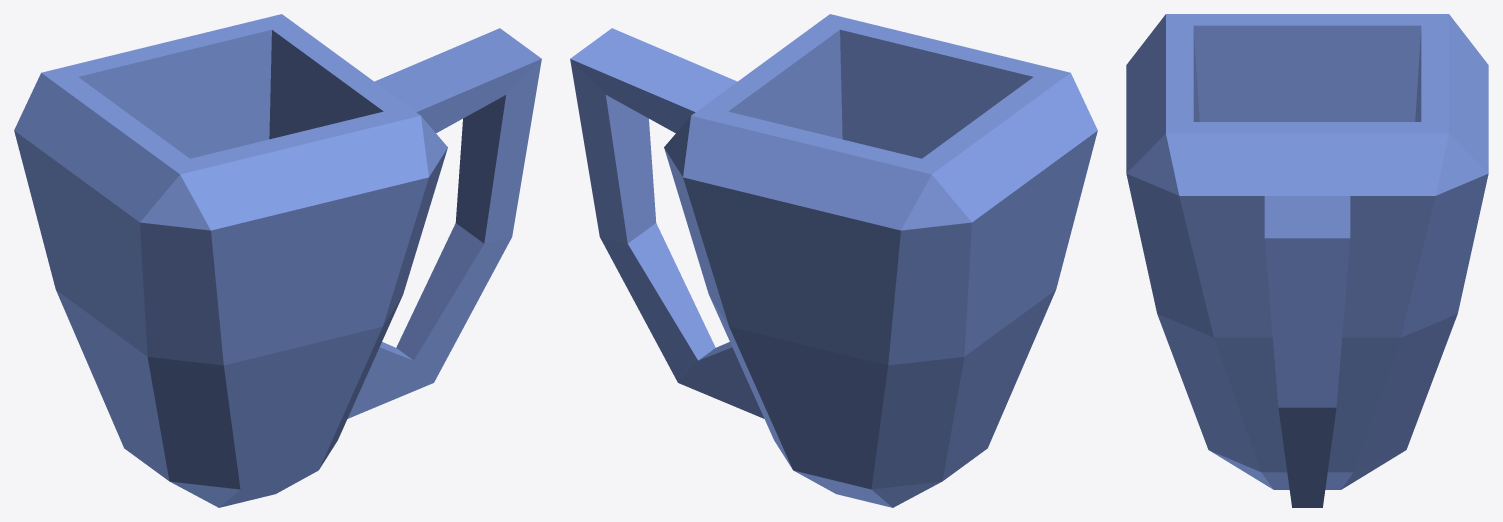
The model's file is Cup 1.fbx.
The picture shows the model from 3 angles, left to right: view 1: azimuth 30°, elevation 25°; view 2: azimuth 150°, elevation 25°; view 3: azimuth 270°, elevation 25°; orthographic projection.
Parts seen in each view (by area): view 1: Cube; view 2: Cube; view 3: Cube.
Part boxes in pixels (box(x1,y1,x2,y2)): Cube: box(14, 14, 541, 507); Cube: box(570, 14, 1097, 507); Cube: box(1126, 14, 1488, 507).
Bounding box in the file's own units: 600 × 510 × 416.
